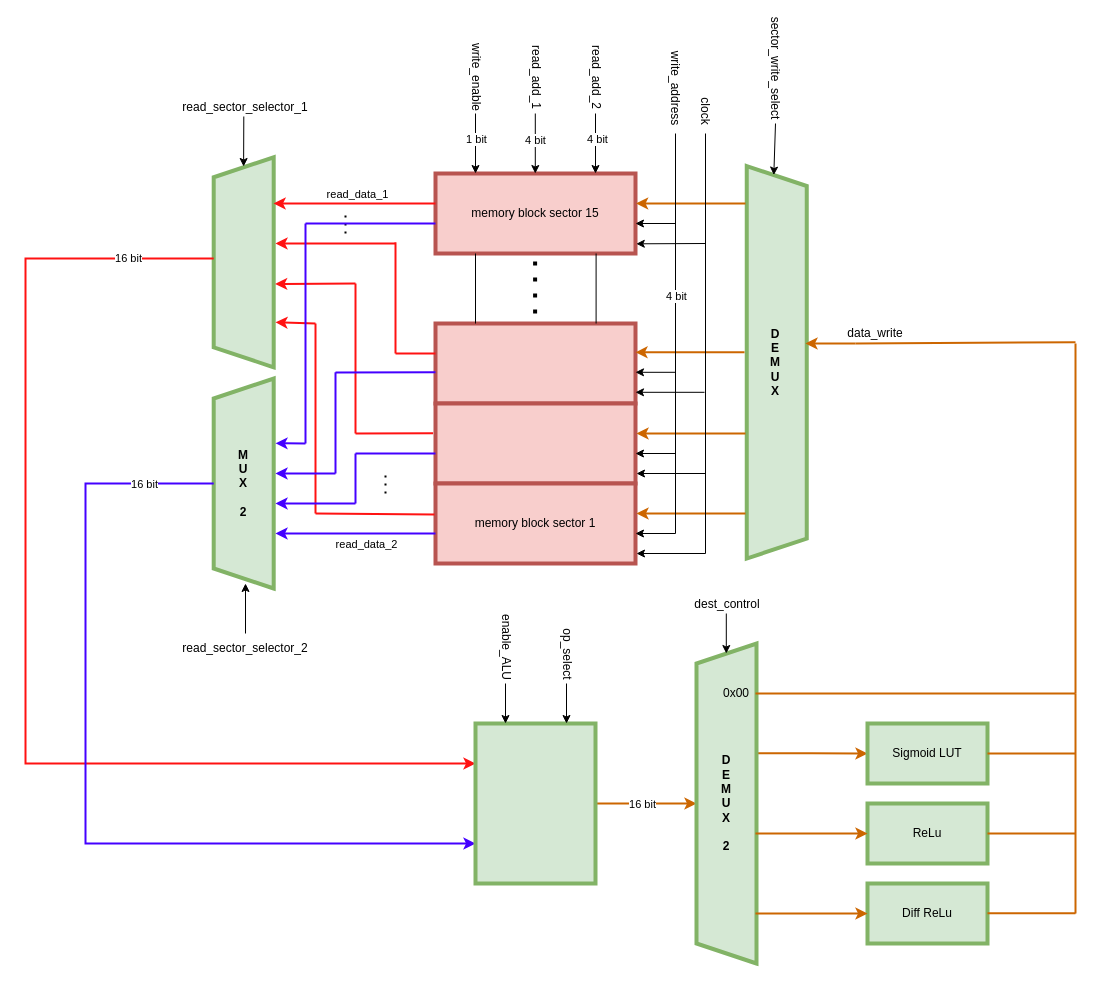
This 1094x983 diagram has some shape labels left out. The shapes that lost their labels are listed below. From the top down, each one's centre as x and y in pixels, then its label:
At (243,262): "M U X 1".
At (535,363): "memory block sector 3".
At (535,443): "memory block sector 2".
At (535,803): "A L U".
